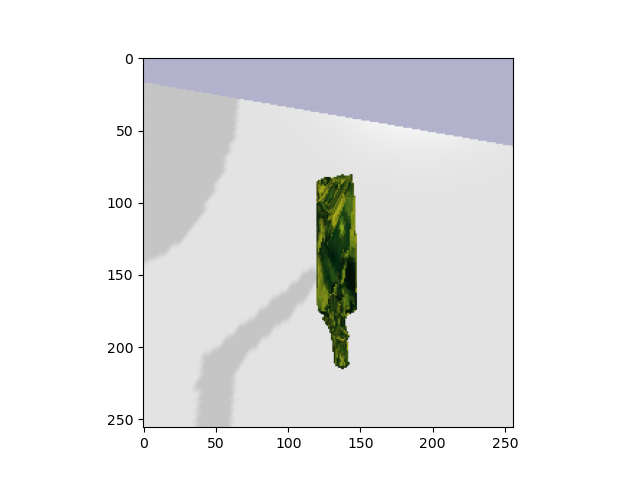v249b387_108: (307, 164, 380, 374)
